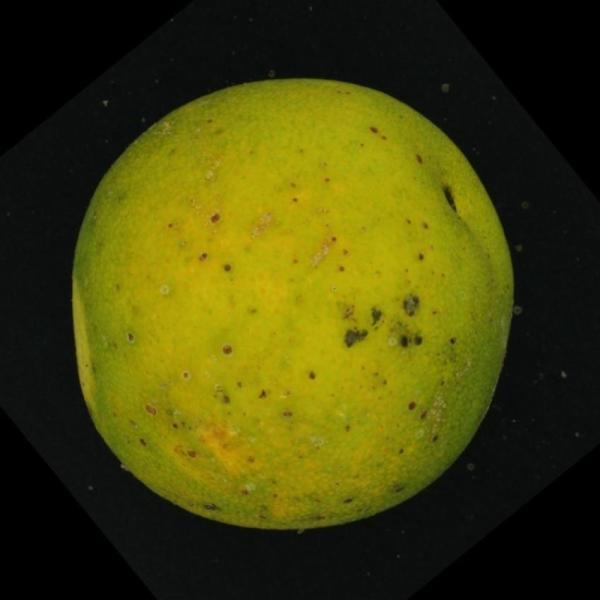Greening: (60, 70, 526, 545)
